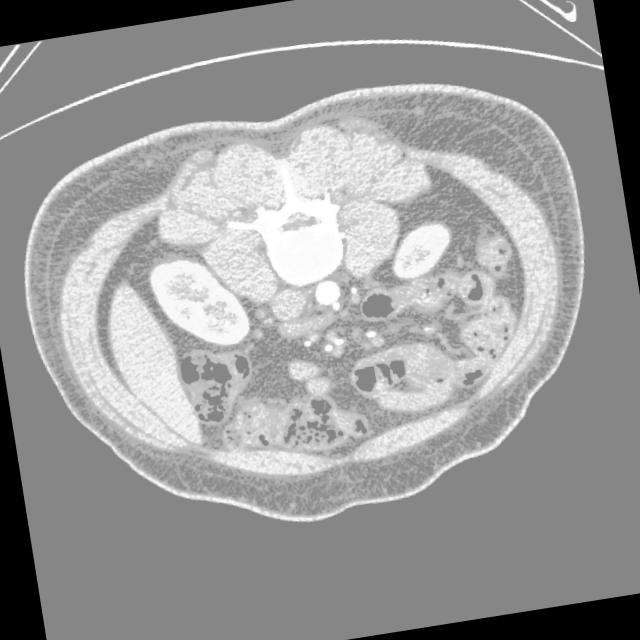NORMAL: (0, 35, 637, 564)
